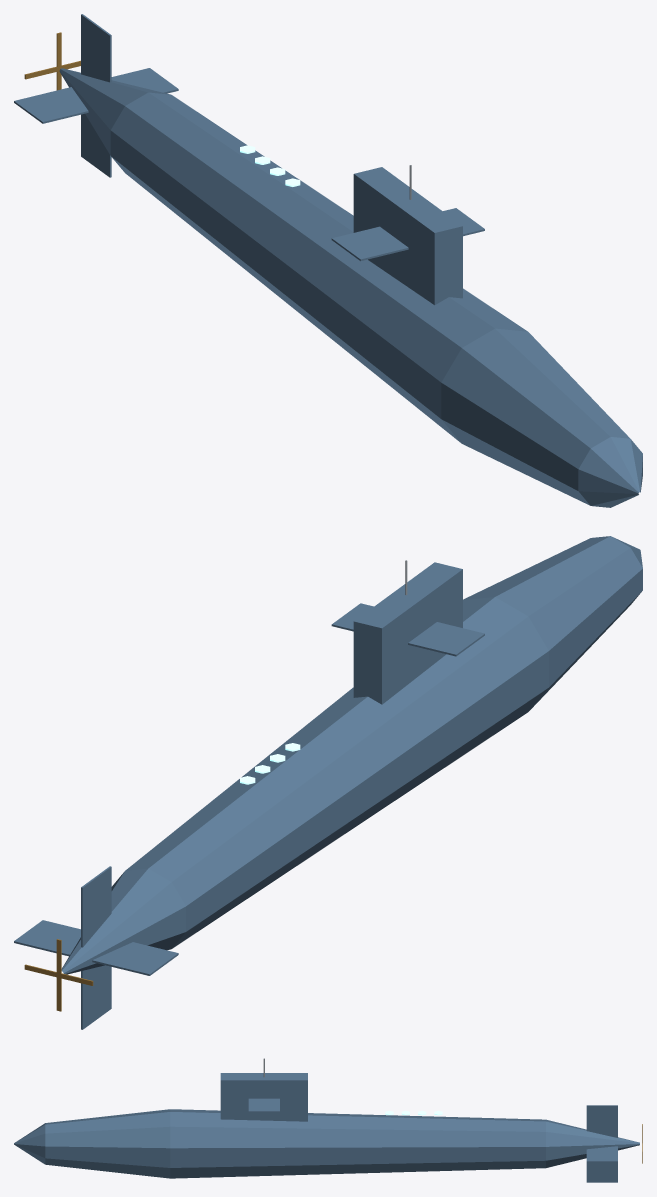
The model's file is veh_naval_submarine_a10.glb.
3 views of the same model, one above another, from view 1: azimuth 30°, elevation 25°; view 2: azimuth 150°, elevation 25°; view 3: azimuth 270°, elevation 25° (orthographic). The views are drawn at different scales.
Parts seen in each view (by area): view 1: body; view 2: body, propeller; view 3: body.
Part boxes in pixels (x1=…): body: x1=14, y1=14, x2=642, y2=507; body: x1=14, y1=536, x2=642, y2=1029; propeller: x1=24, y1=939, x2=93, y2=1011; body: x1=14, y1=1058, x2=639, y2=1182.
Size of what is drawn, in the model's own units: 6.24 by 10.08 by 46.23.
